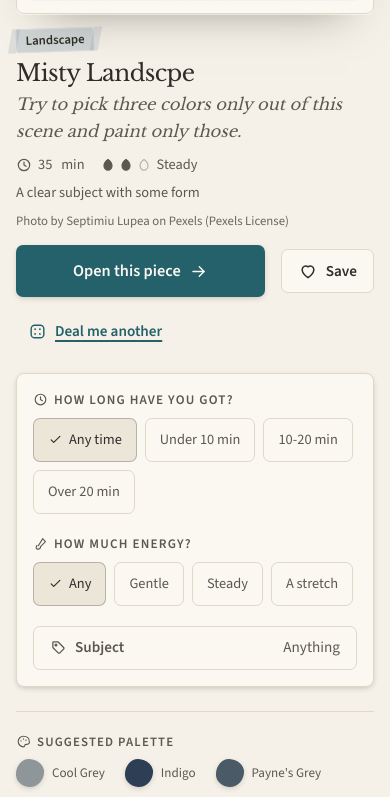
Scenario: Today (shared editorial screen) › narrows to stretch pieces when filtered
(page scrolled)
Click the button "A stretch" at [312, 584], box [271,562,353,606]
(page scrolled)
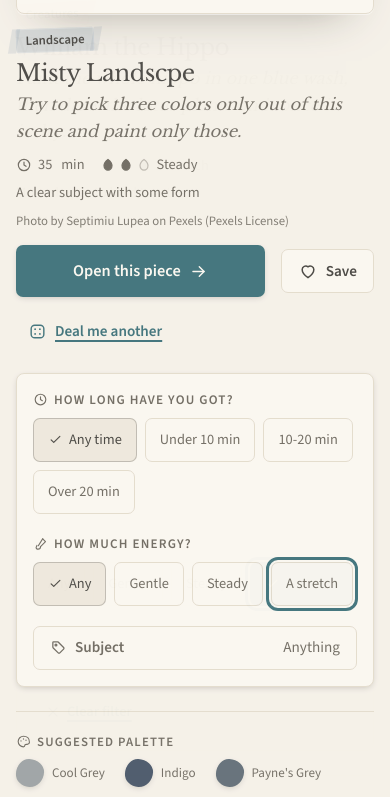
Expected: the heading "Misty Landscpe" is gone
